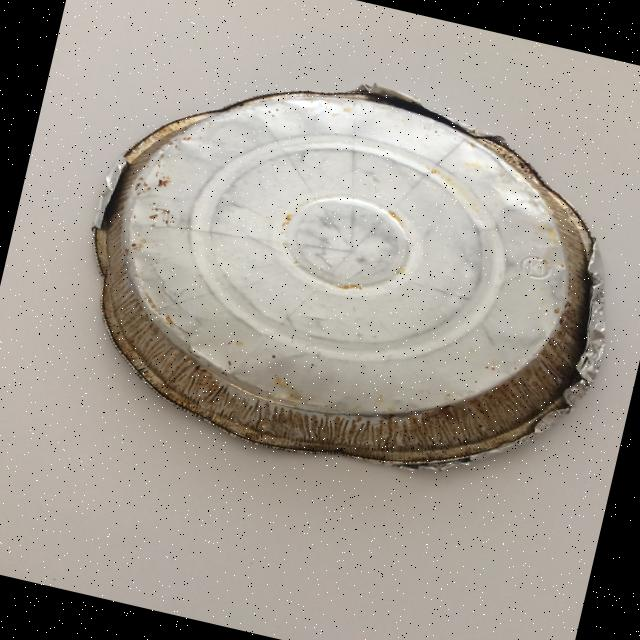metal: (50, 28, 640, 517)
